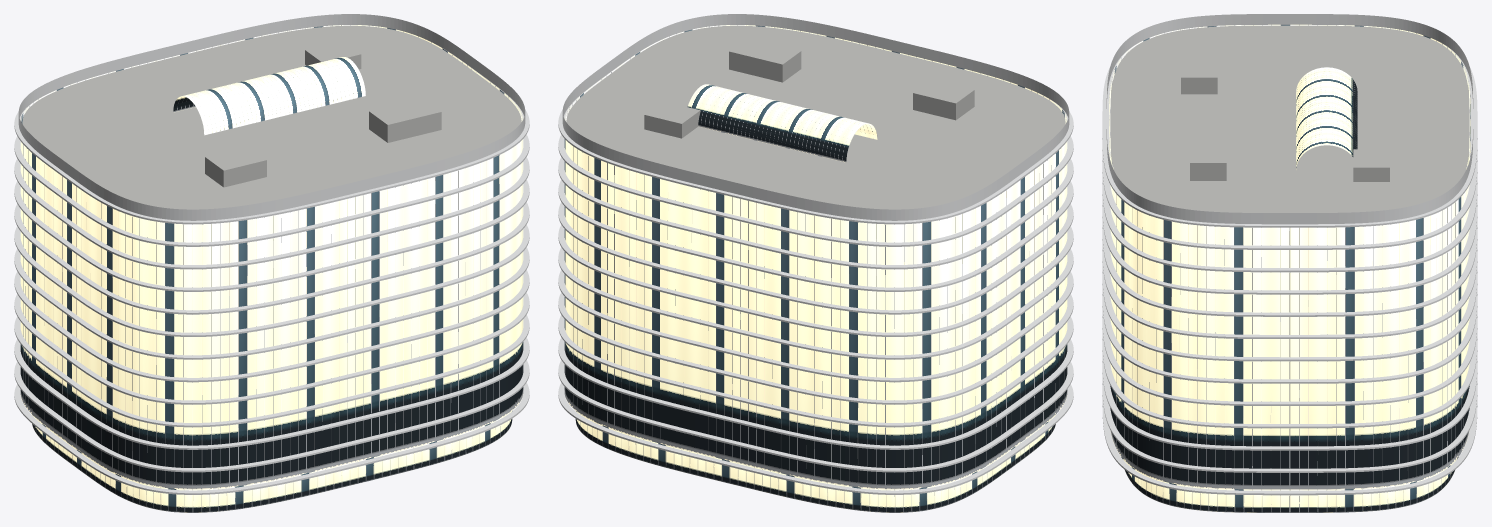
The model's file is twa.glb.
The picture shows the model from 3 angles, left to right: view 1: azimuth 30°, elevation 25°; view 2: azimuth 150°, elevation 25°; view 3: azimuth 270°, elevation 25°; orthographic projection.
Parts seen in each view (by area): view 1: Tower A glass, Tower A roof, Tower A louvres, Tower A rooflight; view 2: Tower A glass, Tower A roof, Tower A louvres, Tower A rooflight; view 3: Tower A glass, Tower A roof, Tower A louvres, Tower A rooflight.
Part boxes in pixels (x1,y1,x2,y2): Tower A glass: (20, 25, 523, 512); Tower A roof: (22, 25, 521, 209); Tower A louvres: (14, 14, 529, 494); Tower A rooflight: (173, 57, 365, 135); Tower A glass: (564, 25, 1067, 512); Tower A roof: (566, 25, 1065, 209); Tower A louvres: (558, 14, 1073, 494); Tower A rooflight: (687, 84, 877, 162); Tower A glass: (1108, 24, 1471, 512); Tower A roof: (1110, 25, 1469, 212); Tower A louvres: (1102, 14, 1477, 495); Tower A rooflight: (1296, 67, 1357, 169).
Bounding box in the file's own units: 78 × 57.5 × 61.
3 materials, 1 textured.
